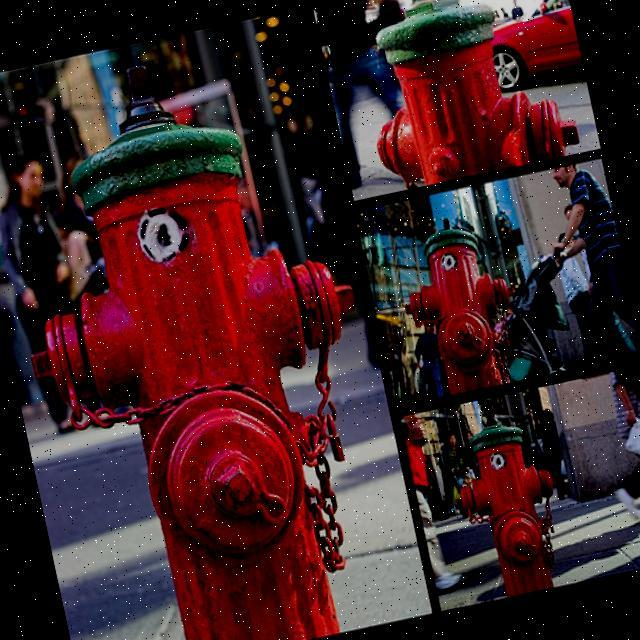fire_hydrant: (0, 24, 423, 640), (349, 0, 585, 194), (386, 213, 538, 405), (446, 412, 574, 603)
